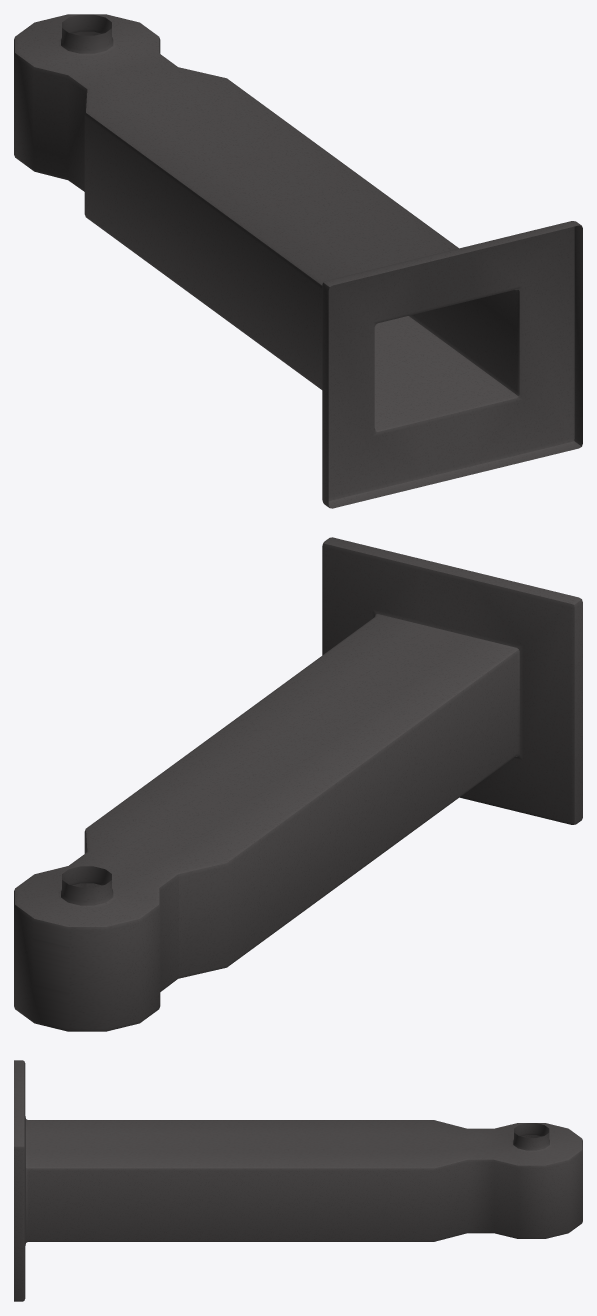
The model's file is camera3.gltf.
3 views of the same model, one above another, from view 1: azimuth 30°, elevation 25°; view 2: azimuth 150°, elevation 25°; view 3: azimuth 270°, elevation 25° (orthographic). The views are drawn at different scales.
Parts seen in each view (by area): view 1: camera03; view 2: camera03; view 3: camera03.
Boxes of the visible parts, <box> form: camera03: <box>14,14,582,508</box>; camera03: <box>14,537,582,1031</box>; camera03: <box>14,1060,582,1301</box>.
Size of the model in its own units: 0.071 by 0.0595 by 0.196.
Materials: 1 (1 with a texture image).
